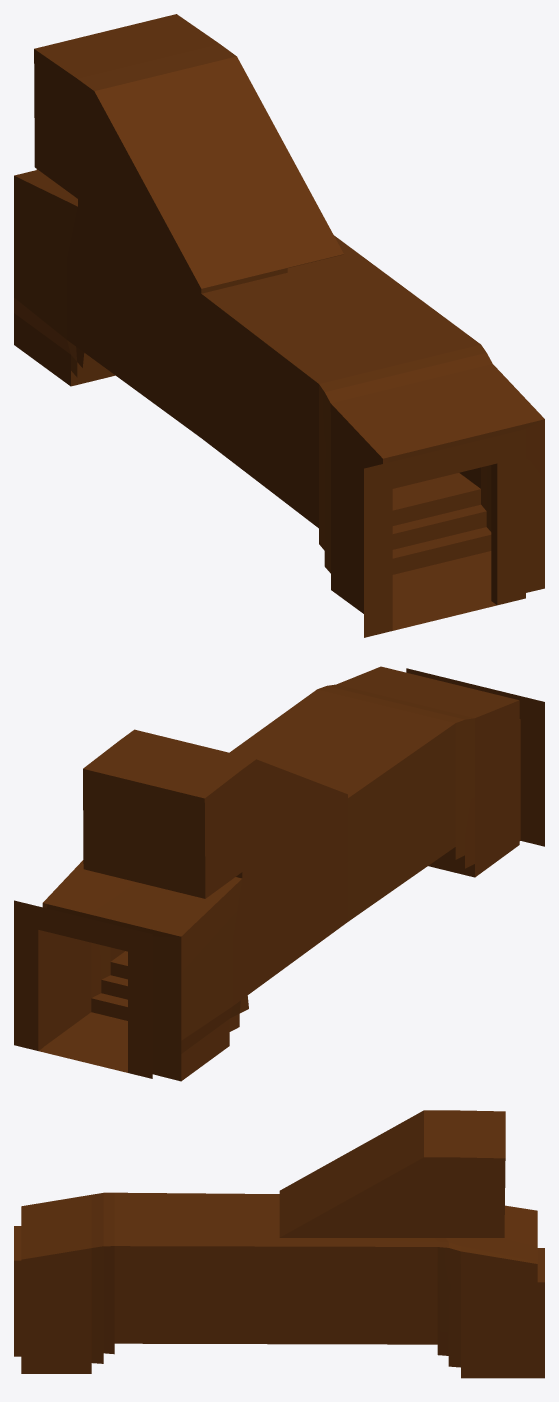
File: double entrance (111).fbx
3 views of the same model, one above another, from view 1: azimuth 30°, elevation 25°; view 2: azimuth 150°, elevation 25°; view 3: azimuth 270°, elevation 25° (orthographic). The views are drawn at different scales.
Parts seen in each view (by area): view 1: entrance inside.003; view 2: entrance inside.003; view 3: entrance inside.003.
Boxes of the visible parts, bbox=[...] form: entrance inside.003: bbox=[14, 14, 544, 637]; entrance inside.003: bbox=[14, 666, 544, 1081]; entrance inside.003: bbox=[14, 1110, 544, 1378].
Size of the model in its own units: 366 by 485 by 1092.
